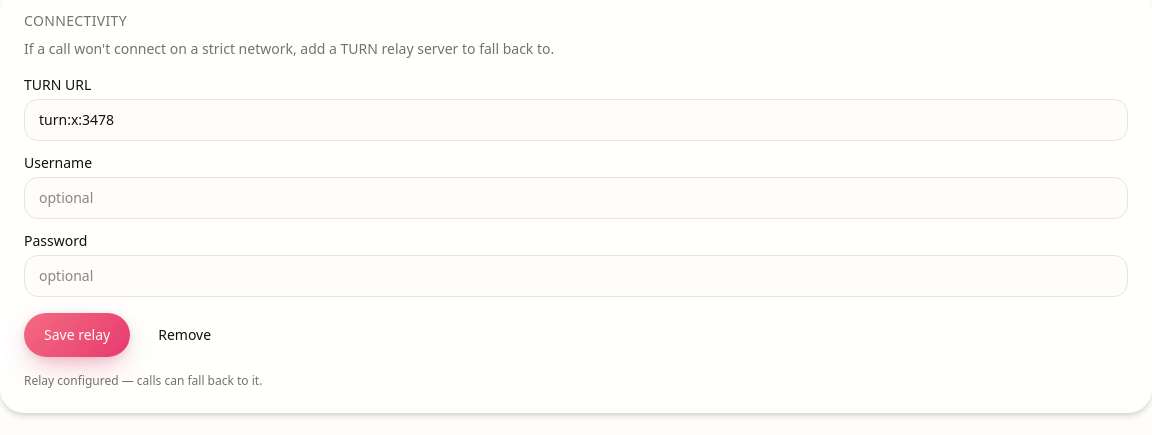
Scenario: TurnSettings › removes a configured relay
expect the text "Relay configured — calls can fall back to it." is shown: met, box [24,372,262,389]
Step 1. Click the button "Remove" → (185, 335), box [138,313,231,357]
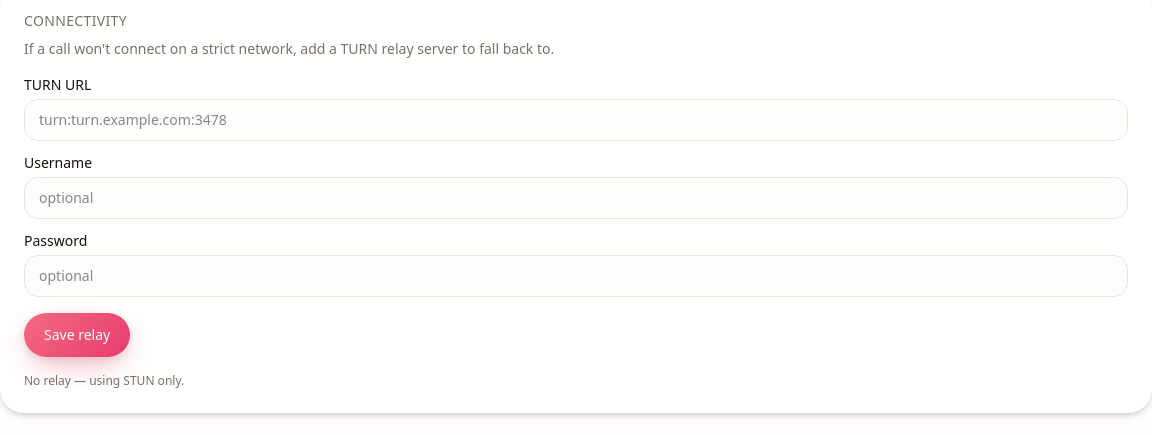
expect the text "No relay — using STUN only." is shown: met, box [24,372,184,389]
